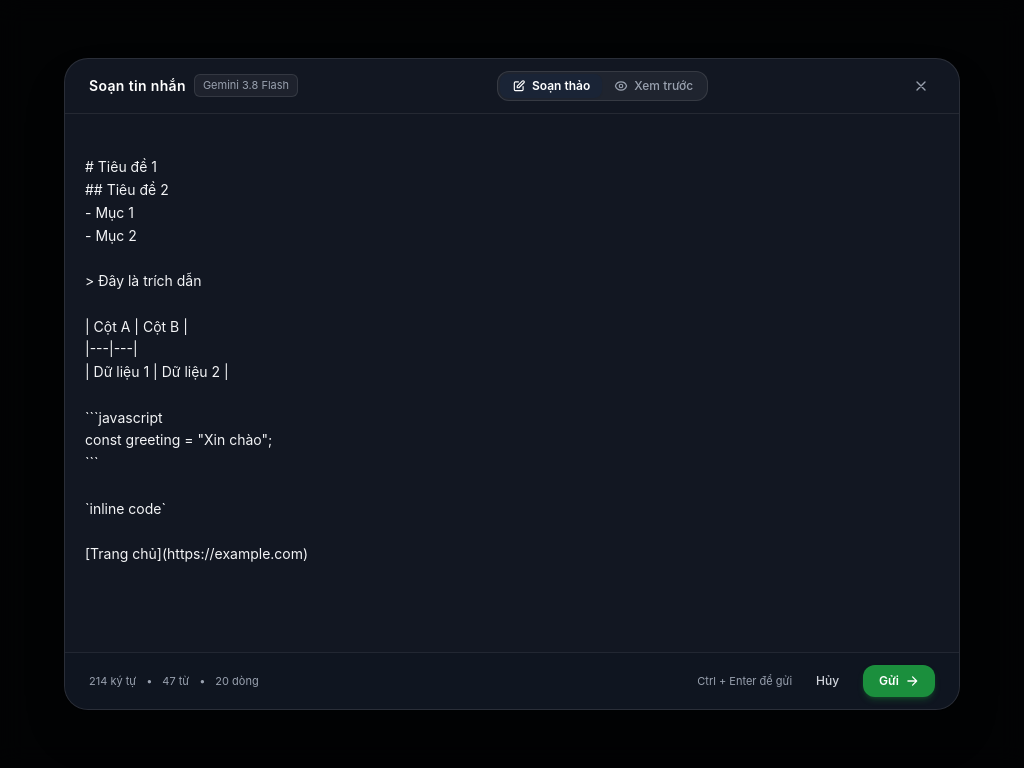
Scenario: ExpandedEditorModal Component › 4. should render headings, lists, blockquotes, code blocks, tables and links in preview
// Switch to preview
Click the tab "Xem trước": (654, 86) 602,74 -> 705,98
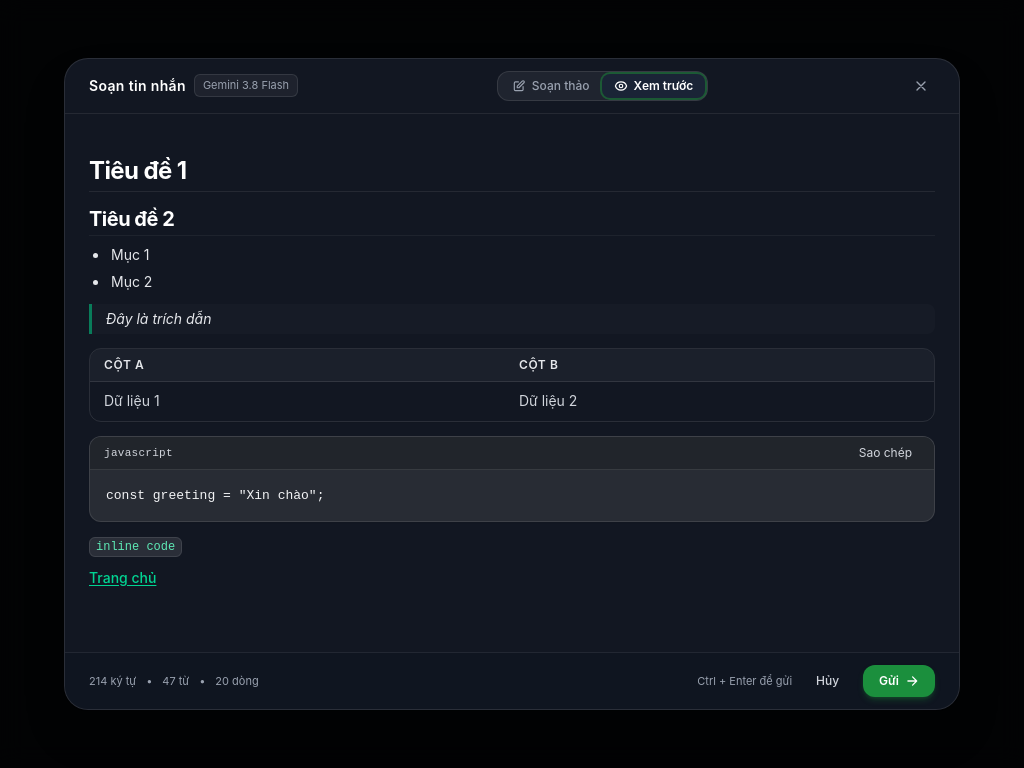
Expected: the heading "Tiêu đề 1" is shown, 89,154 -> 935,192
Expected: the heading "Tiêu đề 2" is shown, 89,206 -> 935,236
Expected: the list item "Mục 1" is shown, 111,246 -> 150,263
